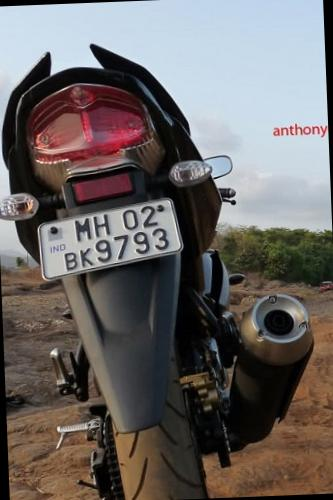plate: (32, 194, 192, 277)
